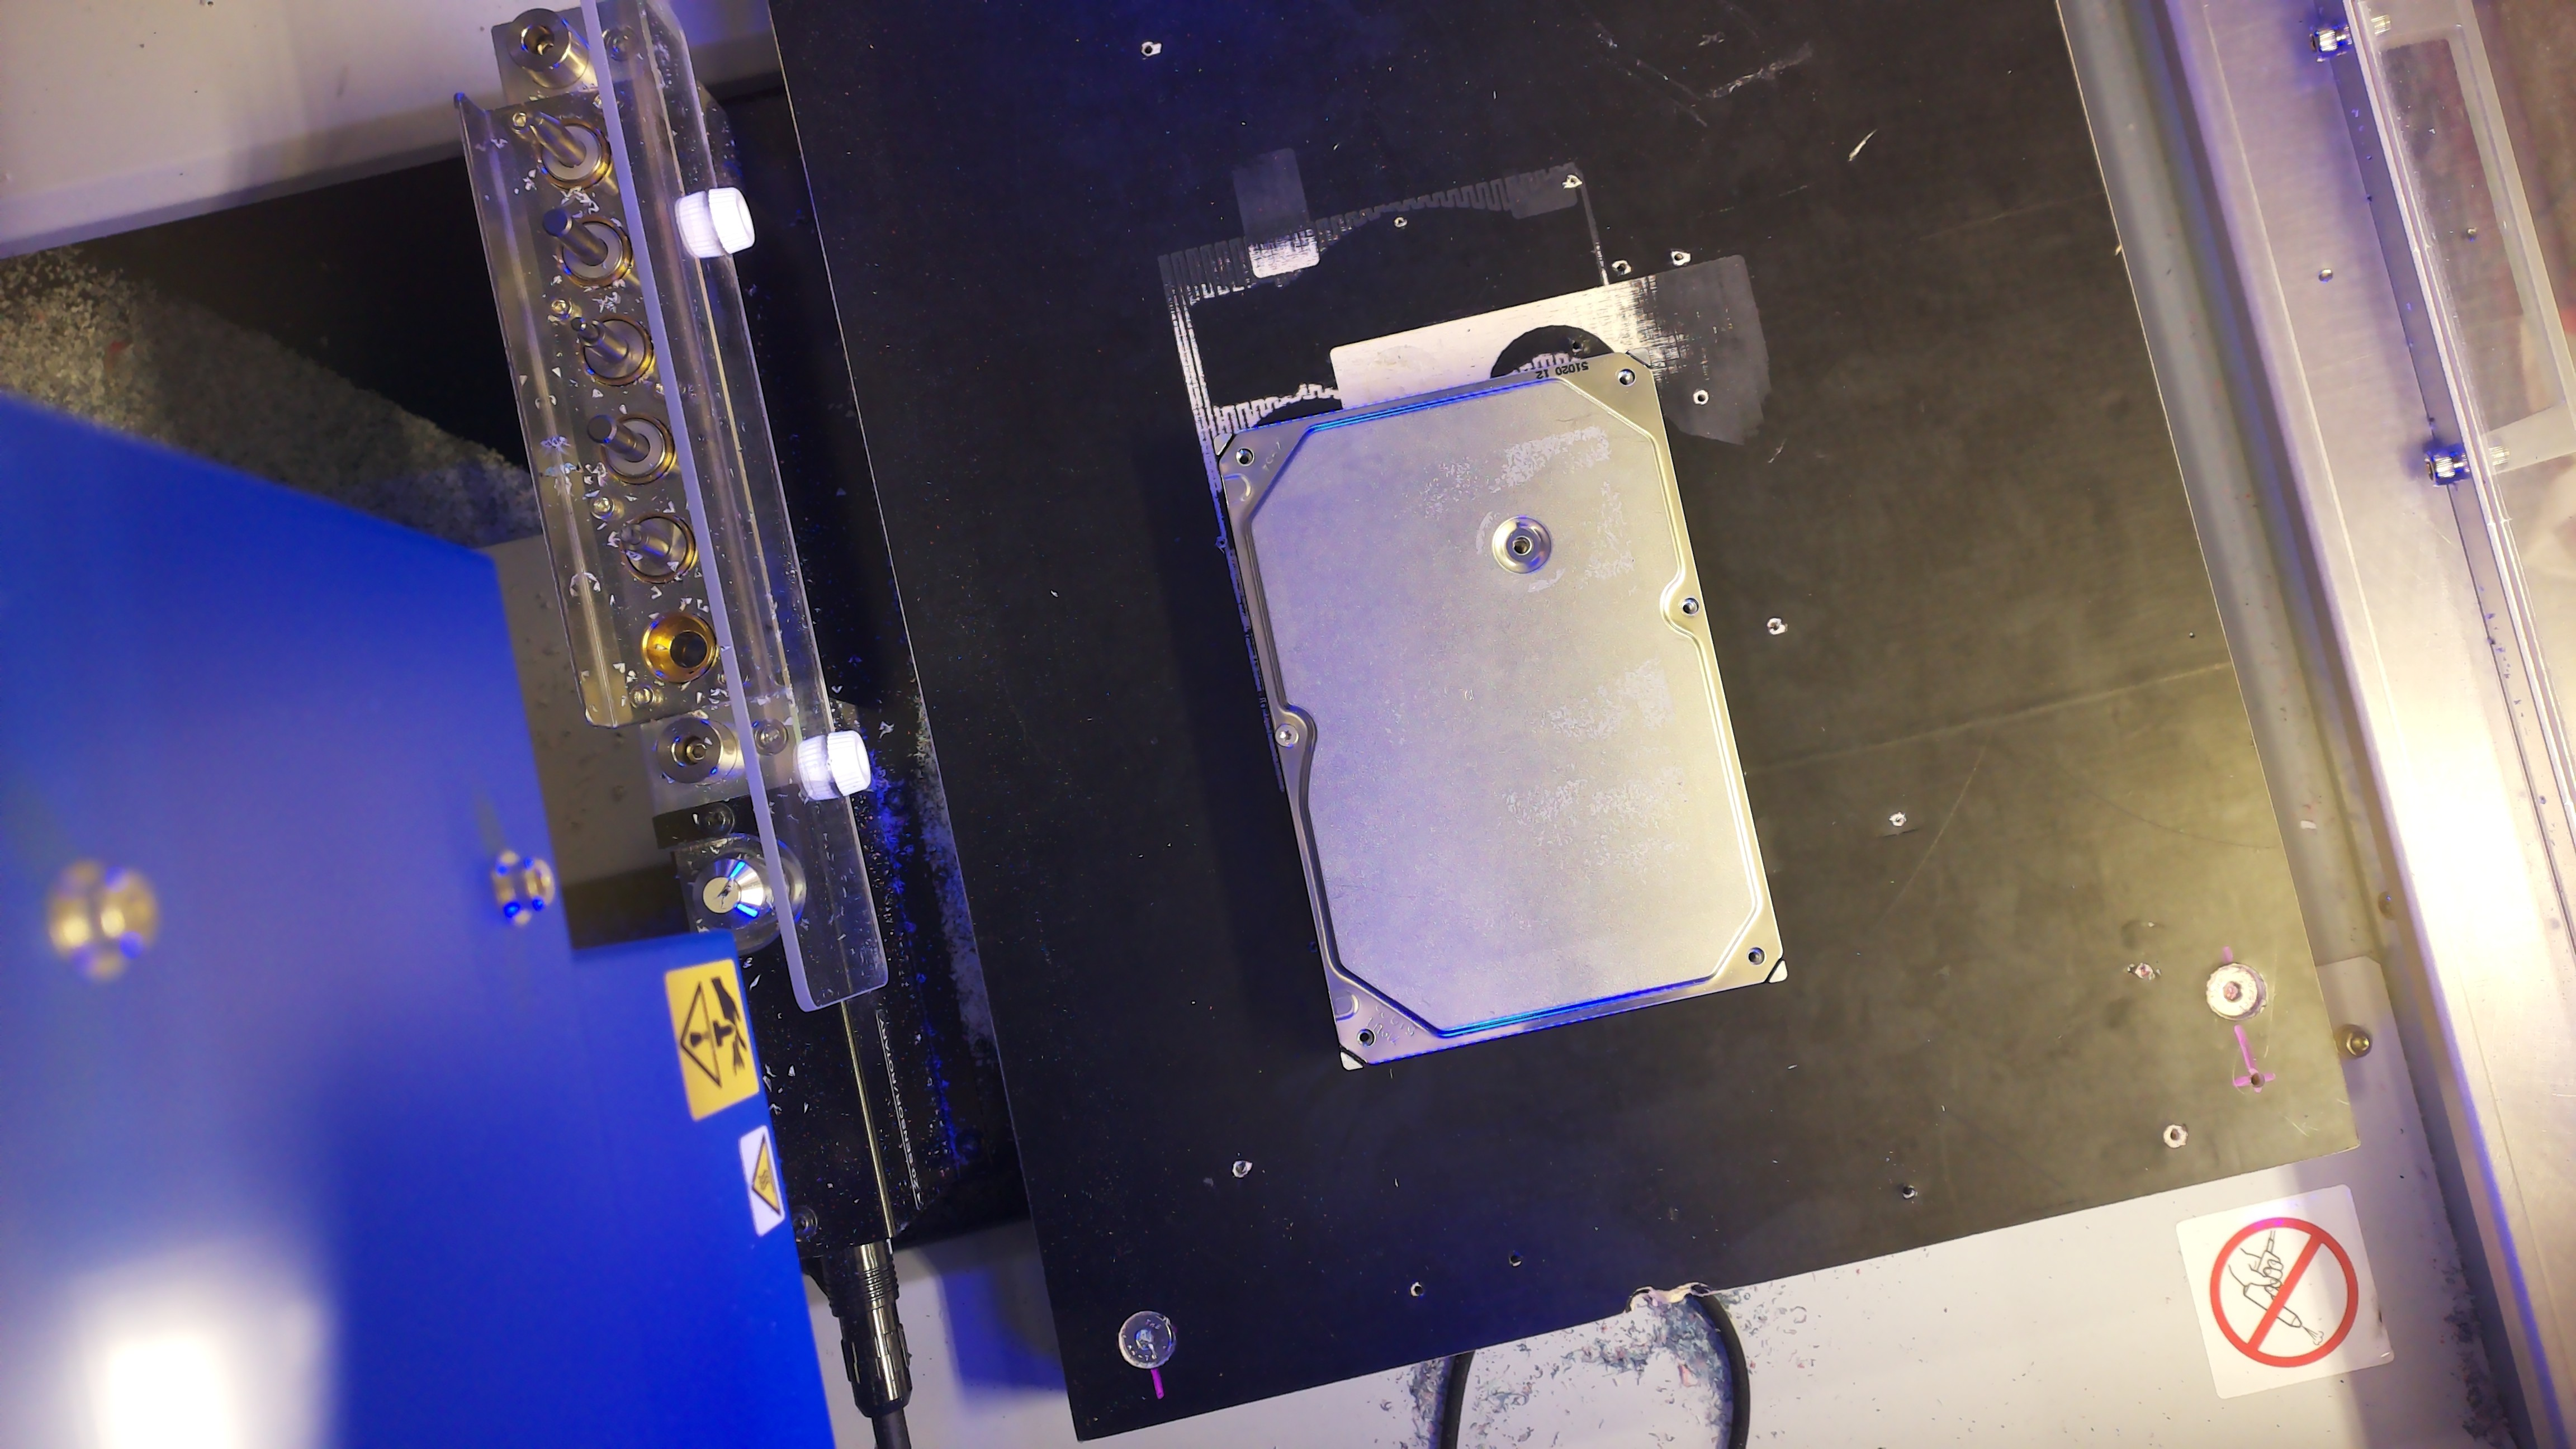Hole: (1511, 534, 1532, 556), (1679, 596, 1700, 616), (1746, 945, 1766, 966), (1355, 1028, 1376, 1047), (1235, 448, 1254, 467), (1615, 368, 1637, 386)
Screw: (1274, 724, 1299, 748)
